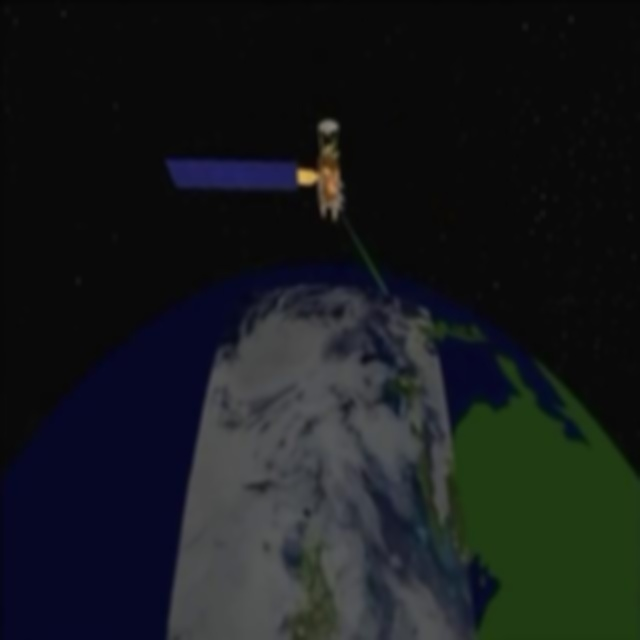medium_debris: (156, 68, 388, 244)
